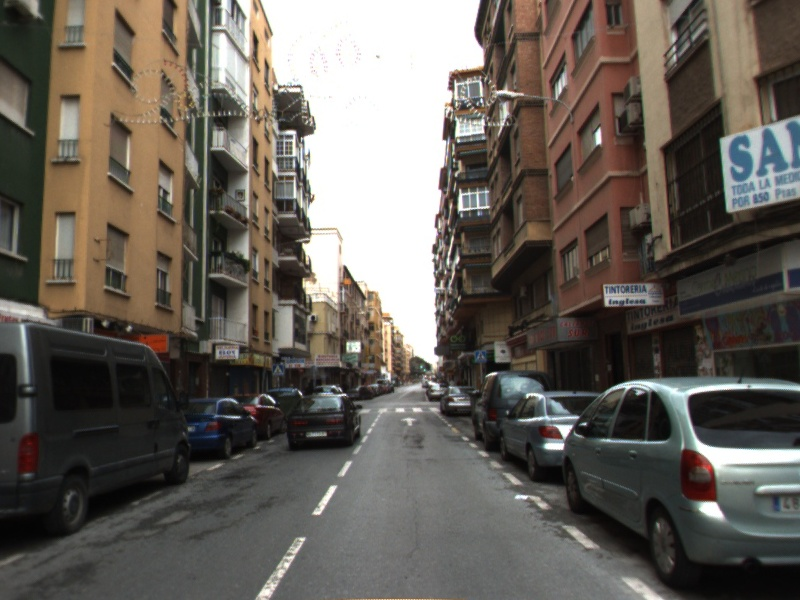STRAIGHT: (399, 415, 419, 428)
